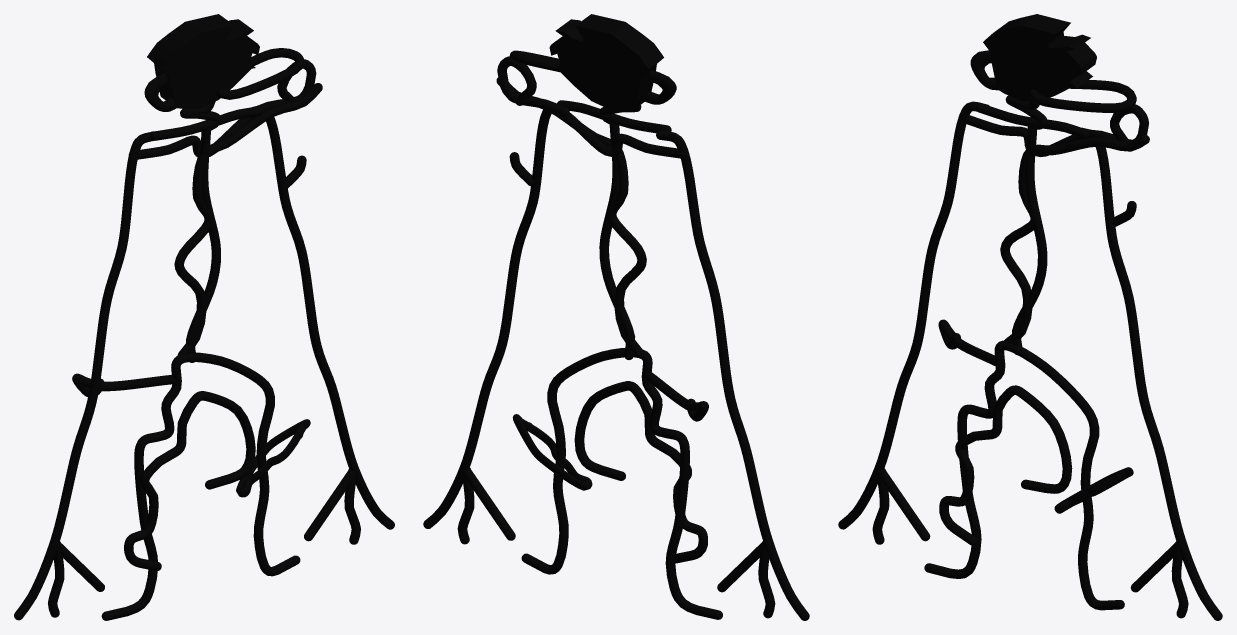
The model's file is backrooms entity.glb.
3 views of the same model, side by side, from view 1: azimuth 30°, elevation 25°; view 2: azimuth 150°, elevation 25°; view 3: azimuth 330°, elevation 25° (orthographic).
Visible parts, largest first — view 1: mesh_id73, mesh_id58, mesh_id34, mesh_id50, mesh_id106, mesh_id98, mesh_id125, mesh_id62, mesh_id92, mesh_id102, mesh_id66, mesh_id117 (+6 smaller); view 2: mesh_id73, mesh_id58, mesh_id34, mesh_id50, mesh_id106, mesh_id125, mesh_id98, mesh_id62, mesh_id102, mesh_id66, mesh_id117, mesh_id51 (+5 smaller); view 3: mesh_id73, mesh_id58, mesh_id50, mesh_id34, mesh_id106, mesh_id98, mesh_id62, mesh_id125, mesh_id92, mesh_id66, mesh_id102, mesh_id117 (+6 smaller).
Part boxes in pixels (x1=…): mesh_id73: x1=147, y1=14, x2=259, y2=108; mesh_id58: x1=101, y1=352, x2=300, y2=620; mesh_id34: x1=14, y1=131, x2=153, y2=620; mesh_id50: x1=252, y1=106, x2=394, y2=529; mesh_id106: x1=124, y1=391, x2=255, y2=570; mesh_id98: x1=174, y1=83, x2=322, y2=355; mesh_id125: x1=128, y1=59, x2=316, y2=159; mesh_id62: x1=186, y1=130, x2=220, y2=362; mesh_id92: x1=216, y1=48, x2=304, y2=99; mesh_id102: x1=236, y1=419, x2=310, y2=497; mesh_id66: x1=150, y1=106, x2=263, y2=140; mesh_id117: x1=72, y1=373, x2=176, y2=396; mesh_id73: x1=549, y1=14, x2=663, y2=110; mesh_id58: x1=521, y1=348, x2=722, y2=619; mesh_id34: x1=656, y1=130, x2=809, y2=620; mesh_id50: x1=423, y1=104, x2=569, y2=528; mesh_id106: x1=574, y1=381, x2=707, y2=563; mesh_id125: x1=497, y1=56, x2=686, y2=158; mesh_id98: x1=496, y1=77, x2=646, y2=356; mesh_id62: x1=599, y1=122, x2=635, y2=359; mesh_id102: x1=512, y1=414, x2=592, y2=490; mesh_id66: x1=557, y1=100, x2=671, y2=133; mesh_id117: x1=644, y1=372, x2=708, y2=421; mesh_id51: x1=462, y1=469, x2=515, y2=540; mesh_id73: x1=983, y1=14, x2=1096, y2=101; mesh_id58: x1=924, y1=340, x2=1124, y2=610; mesh_id50: x1=1082, y1=127, x2=1222, y2=620; mesh_id34: x1=838, y1=101, x2=989, y2=529; mesh_id106: x1=939, y1=385, x2=1072, y2=545; mesh_id98: x1=1000, y1=134, x2=1149, y2=343; mesh_id62: x1=1012, y1=127, x2=1047, y2=354; mesh_id125: x1=964, y1=104, x2=1148, y2=156; mesh_id92: x1=1029, y1=79, x2=1136, y2=112; mesh_id66: x1=975, y1=103, x2=1089, y2=138; mesh_id102: x1=1054, y1=467, x2=1133, y2=513; mesh_id117: x1=938, y1=319, x2=995, y2=366.
Size of the model in its own units: 0.6437 by 0.917 by 0.1018.
19 materials, 19 textured.
